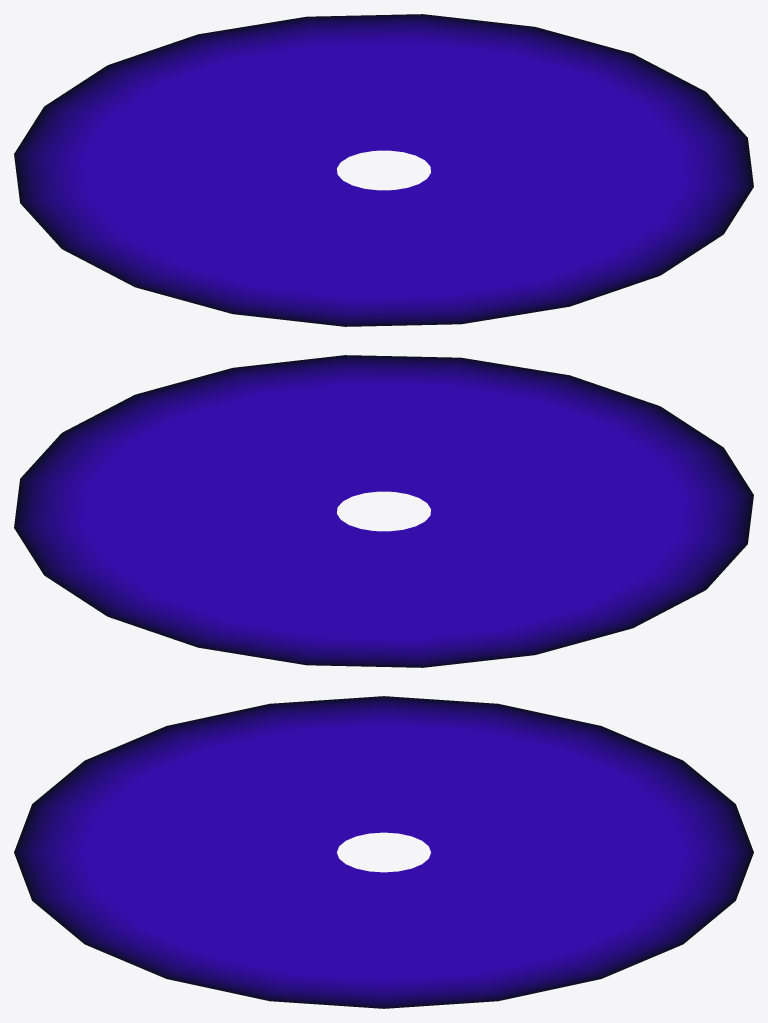
Rendered from SM_WEP_Eff_TrueRasenShuriken_03.mo.fbx.
3 renders of one model, top to bottom at view 1: azimuth 30°, elevation 25°; view 2: azimuth 150°, elevation 25°; view 3: azimuth 270°, elevation 25°, orthographic.
Visible parts, largest first — view 1: SM_WEP_Eff_TrueRasenShuriken_03.mo; view 2: SM_WEP_Eff_TrueRasenShuriken_03.mo; view 3: SM_WEP_Eff_TrueRasenShuriken_03.mo.
Part boxes in pixels (x1,y1,x2,y2): SM_WEP_Eff_TrueRasenShuriken_03.mo: (14,14,753,326); SM_WEP_Eff_TrueRasenShuriken_03.mo: (14,355,753,667); SM_WEP_Eff_TrueRasenShuriken_03.mo: (14,696,753,1008).
Size of the model in its own units: 1.4 by 2.56e-07 by 1.4.
